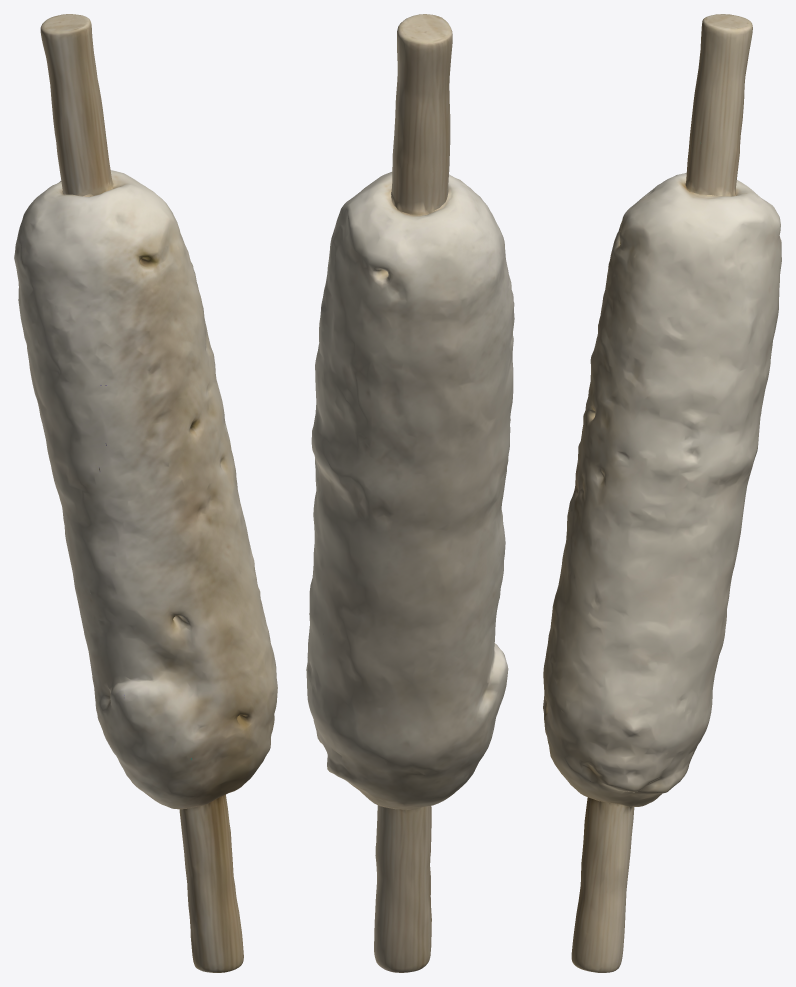
The model's file is sonsomodel.glb.
3 renders of one model, left to right at view 1: azimuth 30°, elevation 25°; view 2: azimuth 150°, elevation 25°; view 3: azimuth 270°, elevation 25°, orthographic. The views are drawn at different scales.
Parts seen in each view (by area): view 1: tripo_part_0, tripo_part_1, tripo_part_2; view 2: tripo_part_0, tripo_part_1, tripo_part_2; view 3: tripo_part_0, tripo_part_1, tripo_part_2.
Part boxes in pixels (x1,y1,x2,y2): tripo_part_0: (14, 170, 277, 809); tripo_part_1: (40, 14, 113, 196); tripo_part_2: (179, 794, 243, 972); tripo_part_0: (306, 172, 514, 809); tripo_part_1: (391, 14, 452, 215); tripo_part_2: (374, 805, 431, 972); tripo_part_0: (543, 173, 781, 806); tripo_part_1: (685, 14, 752, 196); tripo_part_2: (571, 797, 634, 972).
Size of the model in its own units: 0.2348 by 1 by 0.2388.
3 materials, 3 textured.
